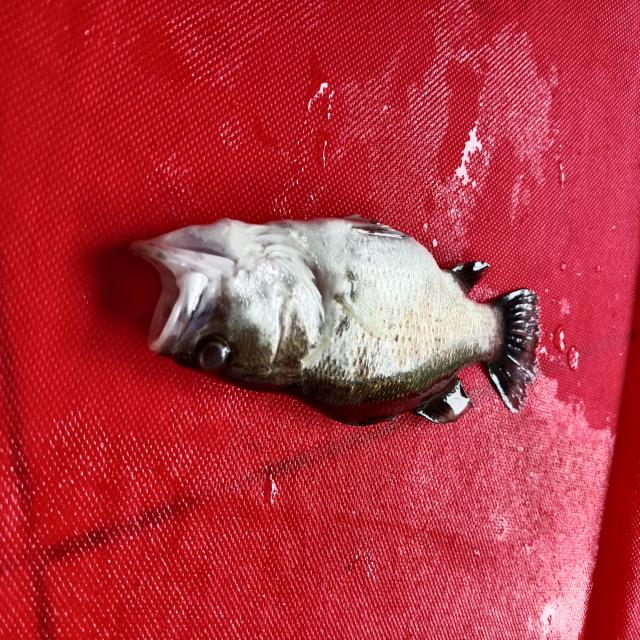ikan: (127, 196, 558, 446)
